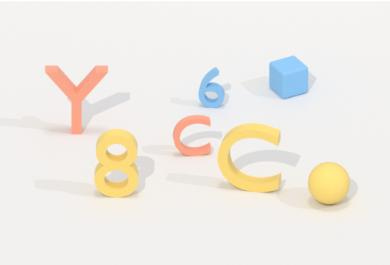0-KhoiVuong: (263, 53, 313, 103)
0-Tron: (304, 160, 353, 209)
6: (194, 64, 229, 112)
8: (90, 126, 143, 202)
C: (217, 119, 286, 197), (170, 109, 213, 160)
Y: (42, 60, 110, 137)
